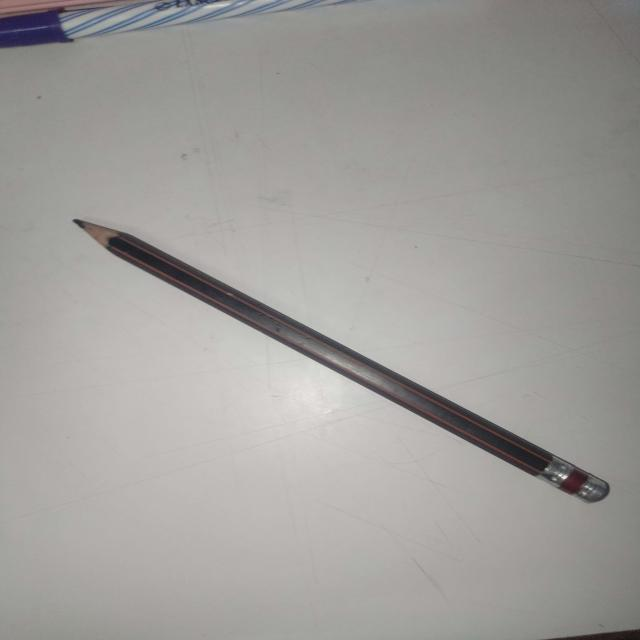pen_pencil: (42, 170, 640, 587)
